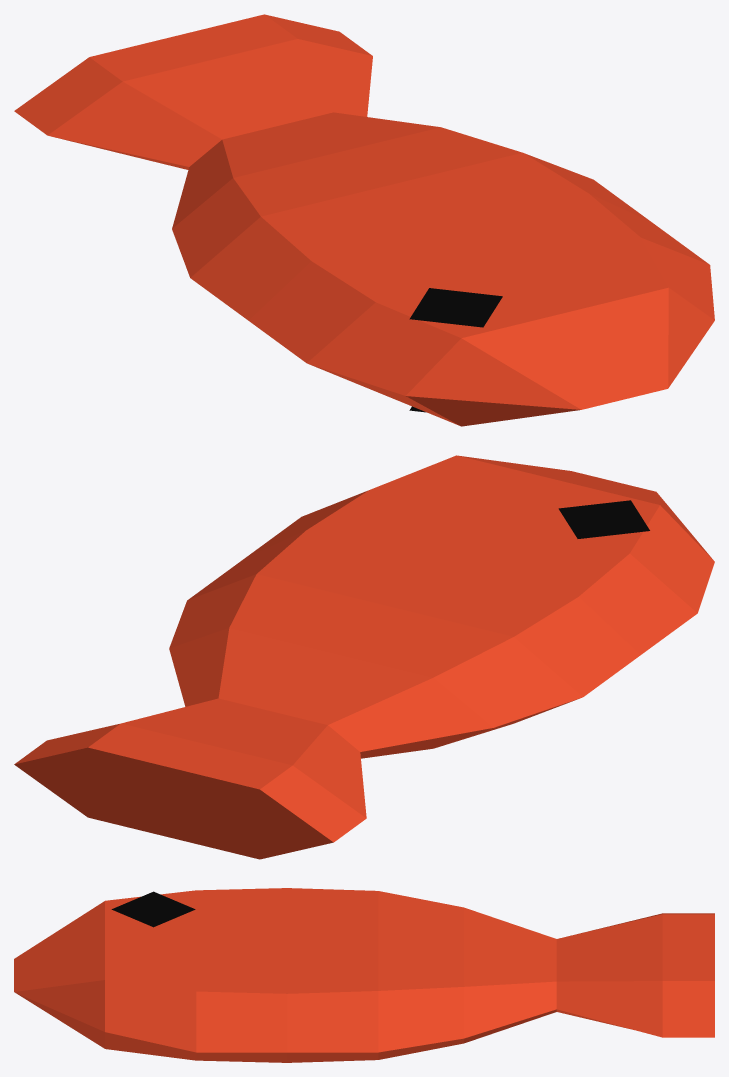
File: fish.fbx
3 views of the same model, one above another, from view 1: azimuth 30°, elevation 25°; view 2: azimuth 150°, elevation 25°; view 3: azimuth 270°, elevation 25° (orthographic). The views are drawn at different scales.
Visible parts, largest first — view 1: fish; view 2: fish; view 3: fish.
Boxes of the visible parts, x1=… form: fish: x1=14, y1=14, x2=714, y2=426; fish: x1=14, y1=455, x2=714, y2=859; fish: x1=14, y1=888, x2=714, y2=1062.
Bounding box in the file's own units: 127 × 27.57 × 245.
